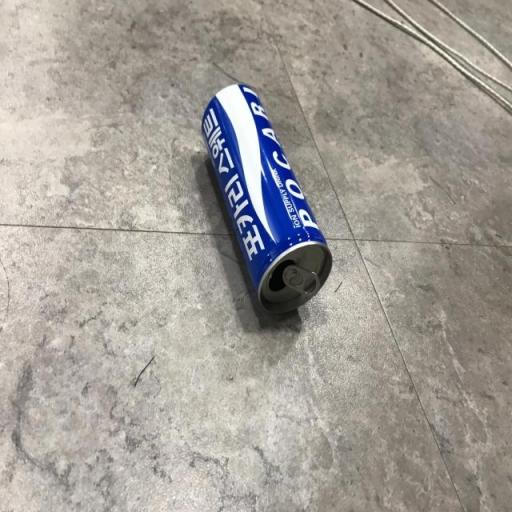metal: (193, 65, 337, 329)
